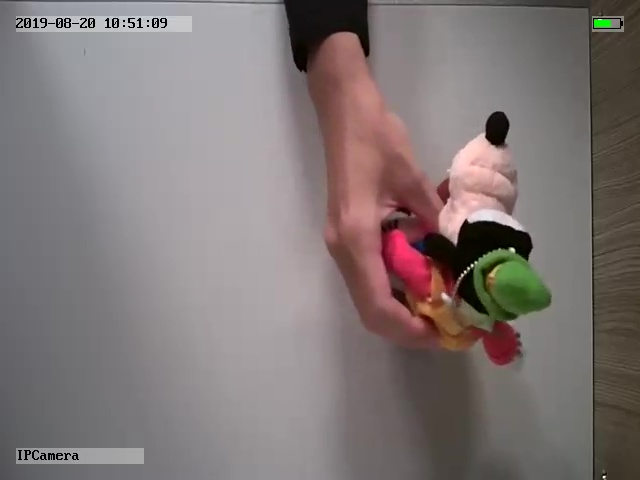goofy: (383, 110, 552, 367)
